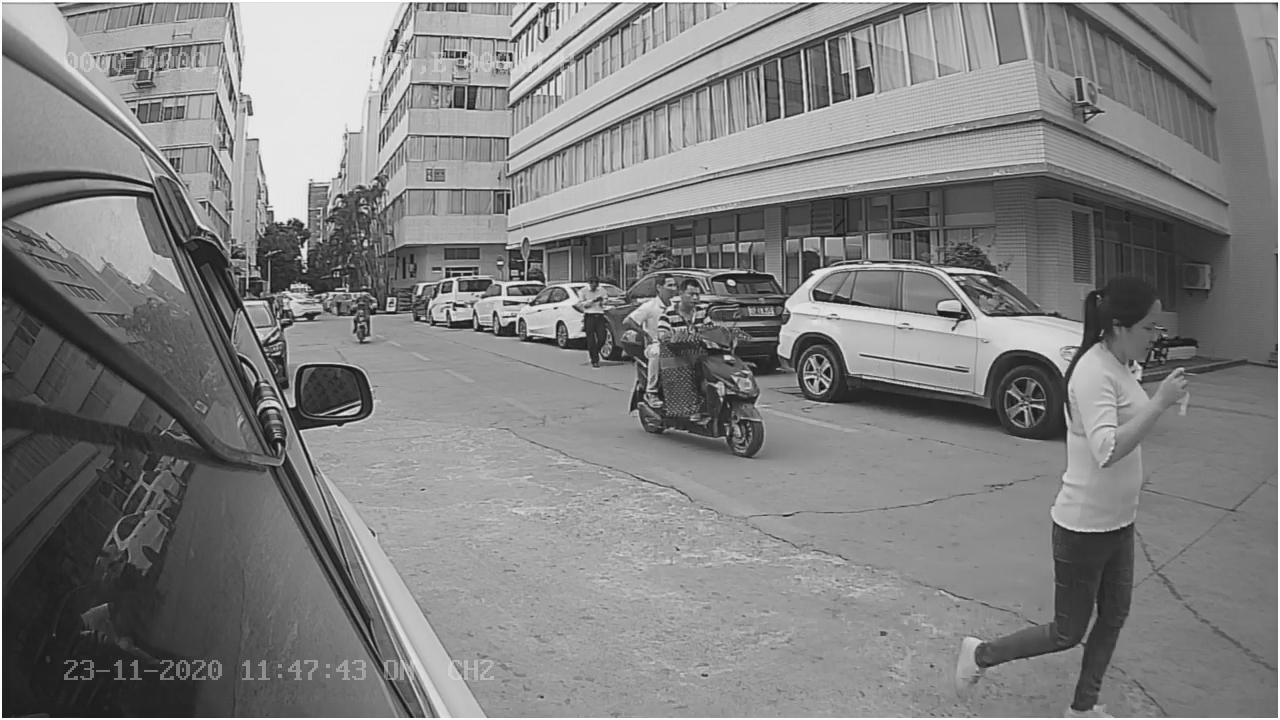person: (1050, 264, 1200, 505)
